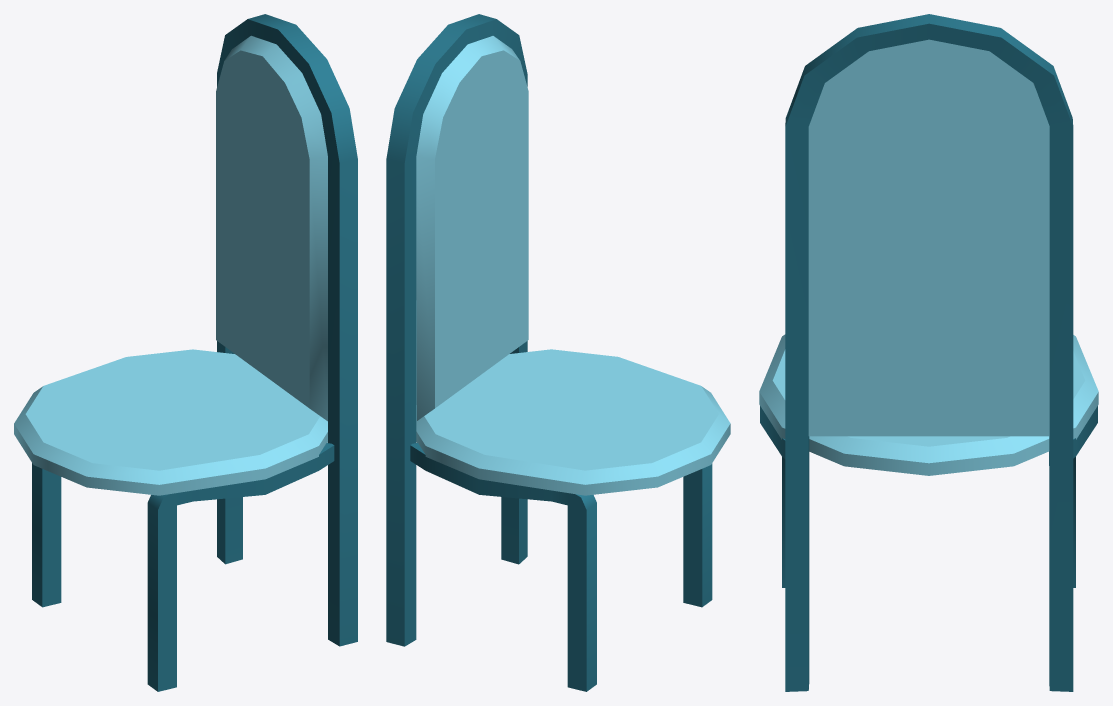
The model's file is coffe_chair_02.fbx.
3 views of the same model, side by side, from view 1: azimuth 30°, elevation 25°; view 2: azimuth 150°, elevation 25°; view 3: azimuth 270°, elevation 25° (orthographic). The views are drawn at different scales.
Parts seen in each view (by area): view 1: coffe_chair_02; view 2: coffe_chair_02; view 3: coffe_chair_02.
Boxes of the visible parts, bbox=[...] form: coffe_chair_02: bbox=[14, 14, 357, 691]; coffe_chair_02: bbox=[386, 14, 730, 691]; coffe_chair_02: bbox=[759, 14, 1098, 691].
Bounding box in the file's own units: 0.7335 × 1.41 × 0.647.
